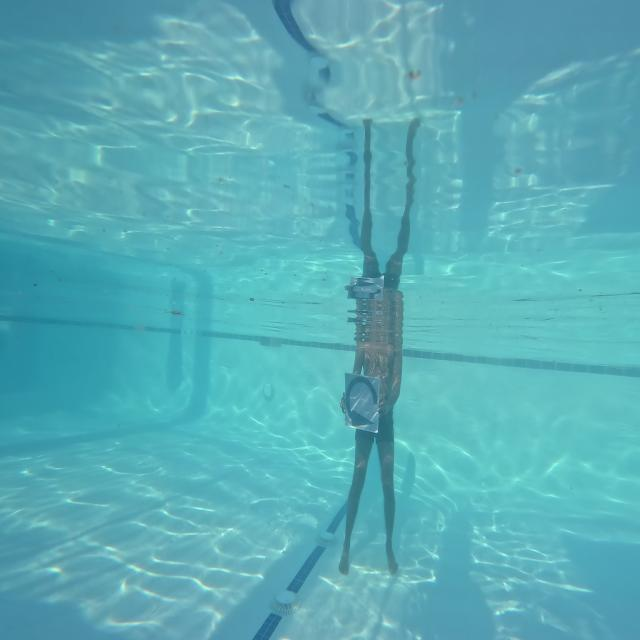blue_side: (344, 369, 385, 438)
